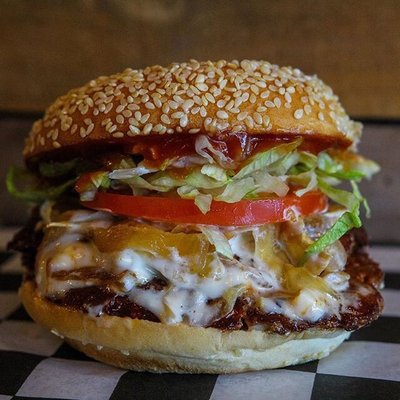soup: (11, 58, 378, 306)
